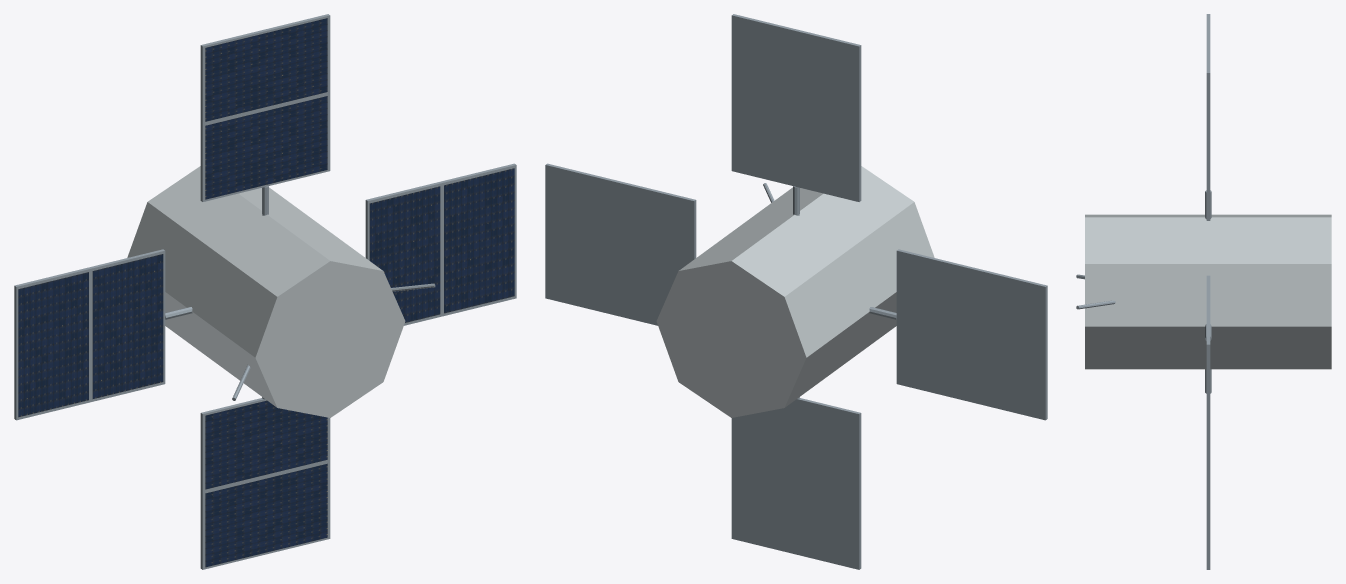
Rendered from ref-magion-24292.glb.
3 renders of one model, left to right at view 1: azimuth 30°, elevation 25°; view 2: azimuth 150°, elevation 25°; view 3: azimuth 270°, elevation 25°, orthographic. The views are drawn at different scales.
Parts seen in each view (by area): view 1: Photovoltaic laminates (×8), Spacecraft body, Array frame (×8); view 2: Array frame (×8), Spacecraft body; view 3: Spacecraft body, Array frame (×4).
Boxes of the visible parts, left/top/right/bottom form: Photovoltaic laminates (×8): left=18, top=18, right=514, bottom=567; Spacecraft body: left=127, top=166, right=405, bottom=417; Array frame (×8): left=14, top=14, right=516, bottom=569; Array frame (×8): left=545, top=14, right=1047, bottom=569; Spacecraft body: left=656, top=166, right=934, bottom=417; Spacecraft body: left=1085, top=214, right=1331, bottom=369; Array frame (×4): left=1206, top=14, right=1210, bottom=569.
Bounding box in the file's own units: 2 × 2 × 0.9321.
Materials: 3 (1 with a texture image).
